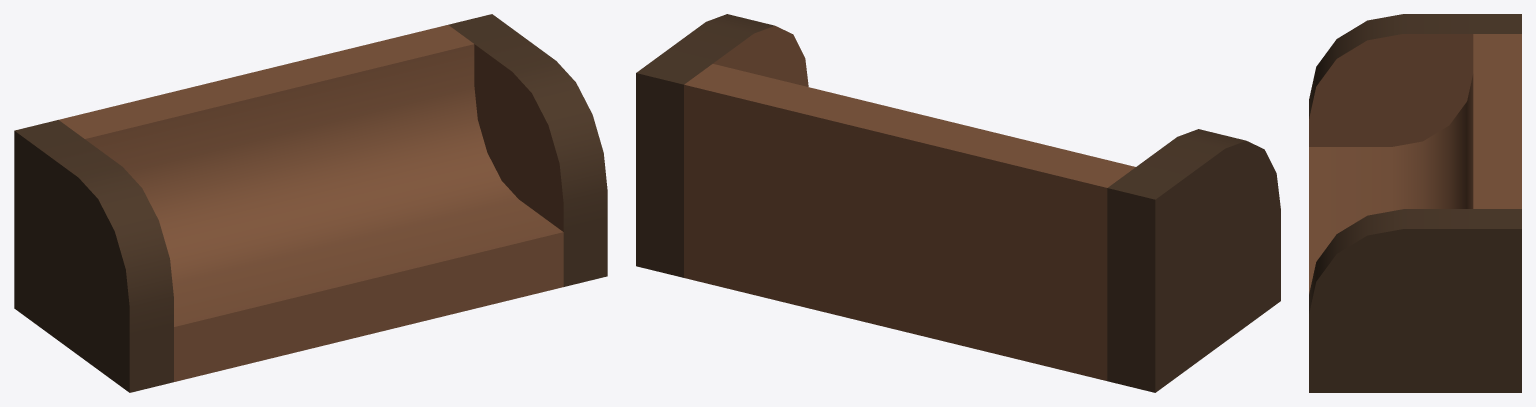
The model's file is Sofa.fbx.
3 views of the same model, side by side, from view 1: azimuth 30°, elevation 25°; view 2: azimuth 150°, elevation 25°; view 3: azimuth 270°, elevation 25° (orthographic). The views are drawn at different scales.
Visible parts, largest first — view 1: Sofa; view 2: Sofa; view 3: Sofa.
Part boxes in pixels (<box>): Sofa: <box>14,14,607,392</box>; Sofa: <box>636,14,1280,392</box>; Sofa: <box>1309,14,1521,392</box>.
Size of the model in its own units: 267 by 95.05 by 112.
